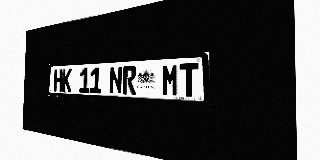1: (90, 67, 101, 93), (79, 68, 90, 93)
H: (53, 69, 62, 92)
K: (62, 68, 72, 92)
M: (161, 63, 179, 96)
N: (109, 66, 122, 94)
R: (122, 65, 136, 94)
T: (180, 62, 199, 97)
